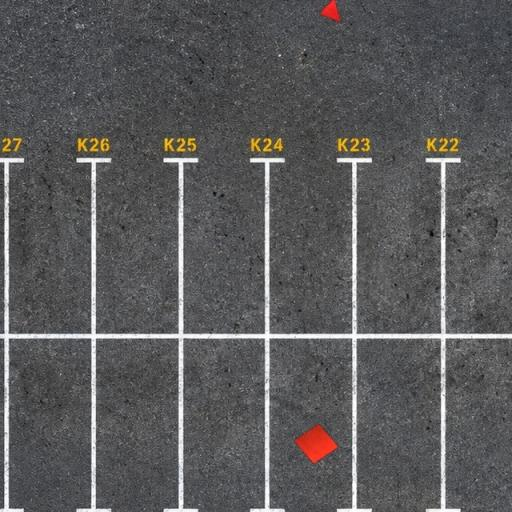RED_SQUARE: (293, 422, 339, 465)
